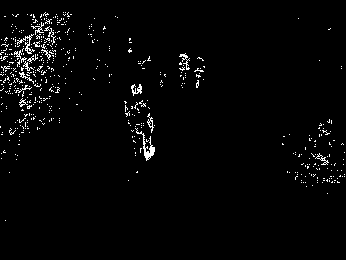person: (124, 81, 157, 163)
